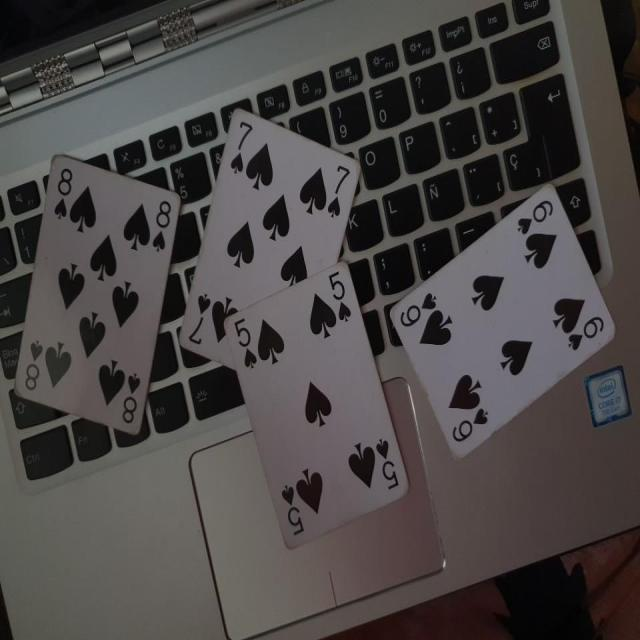5 Spades: (223, 261, 416, 554)
6 Spades: (379, 184, 626, 459)
7 Spades: (182, 102, 362, 387)
8 Spades: (15, 153, 183, 436)
